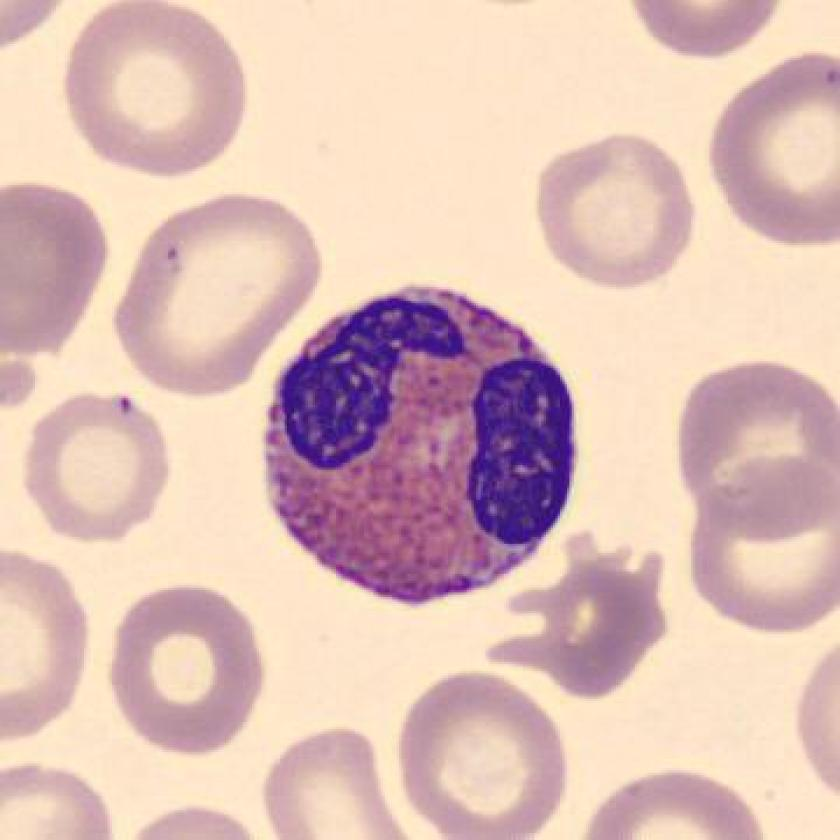eosinophil: (251, 267, 589, 619)
